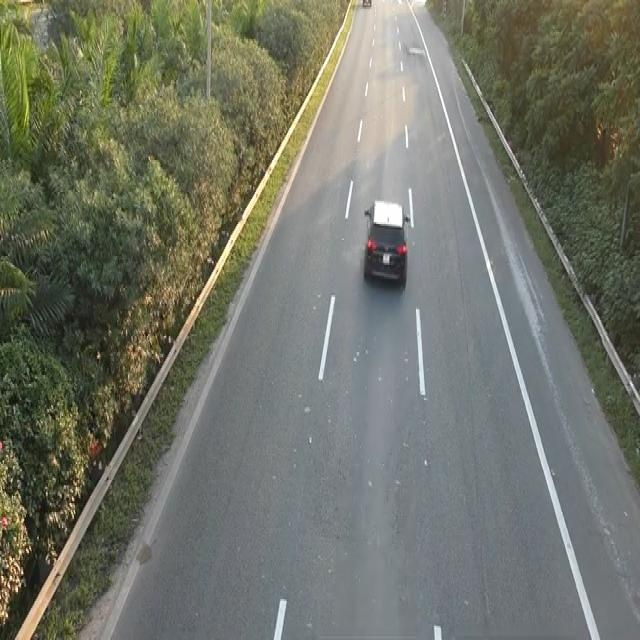car: (361, 196, 410, 288)
